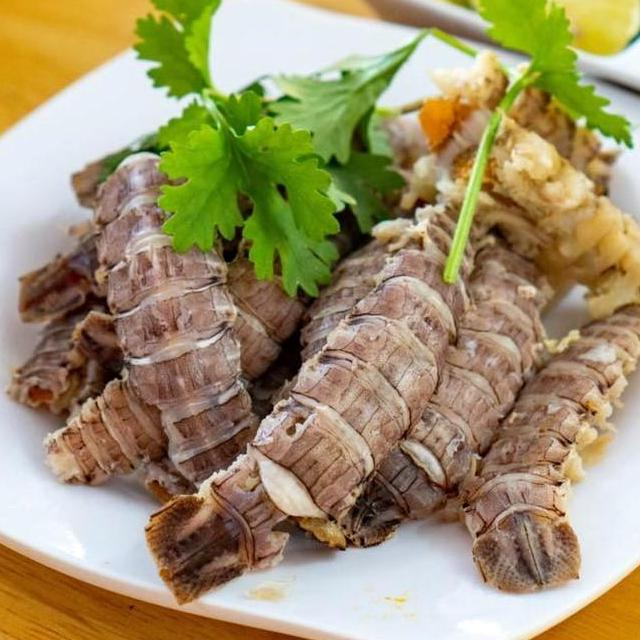tom tit: (136, 184, 486, 610), (296, 237, 562, 558), (29, 220, 320, 492), (82, 142, 274, 492), (454, 284, 640, 600), (407, 92, 640, 328)
